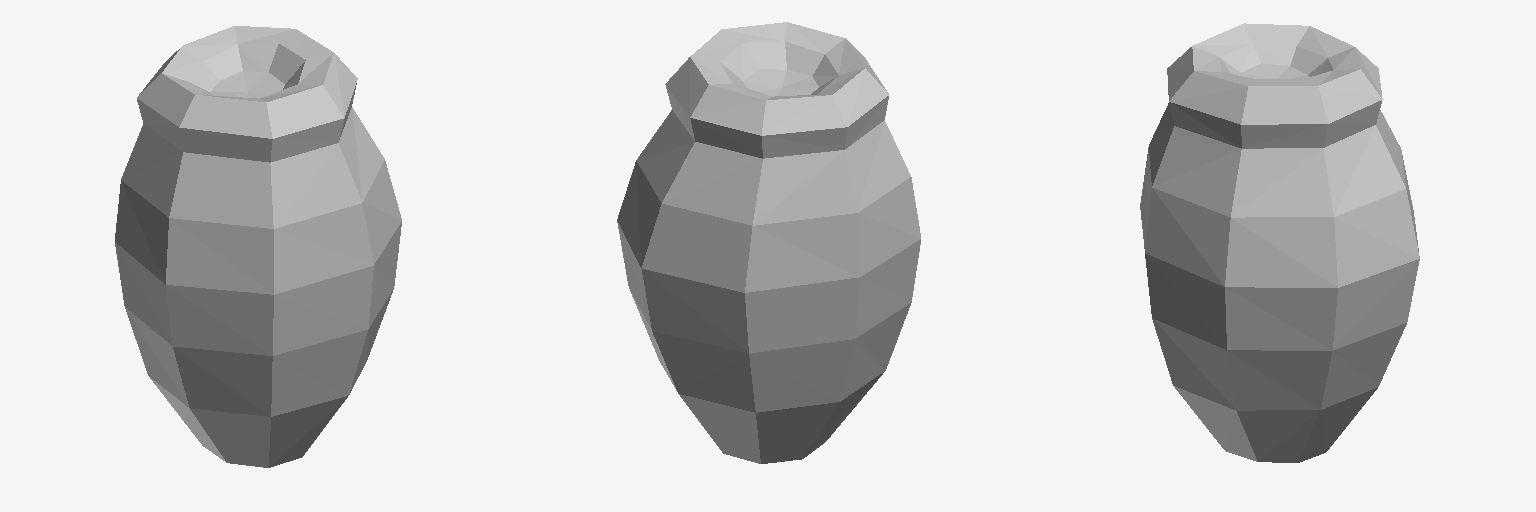
Rendered from Sponge_B_02_LOD1.obj.
3 views of the same model, side by side, from view 1: azimuth 30°, elevation 25°; view 2: azimuth 150°, elevation 25°; view 3: azimuth 270°, elevation 25° (orthographic).
Parts seen in each view (by area): view 1: Sponge_B_02_LOD1_Cylinder.384; view 2: Sponge_B_02_LOD1_Cylinder.384; view 3: Sponge_B_02_LOD1_Cylinder.384.
Boxes of the visible parts, box(x1,y1,x2,y2) form: Sponge_B_02_LOD1_Cylinder.384: box(115, 26, 401, 467); Sponge_B_02_LOD1_Cylinder.384: box(617, 22, 920, 463); Sponge_B_02_LOD1_Cylinder.384: box(1140, 23, 1419, 462).
Bounding box in the file's own units: 2.26 × 3.54 × 2.24.